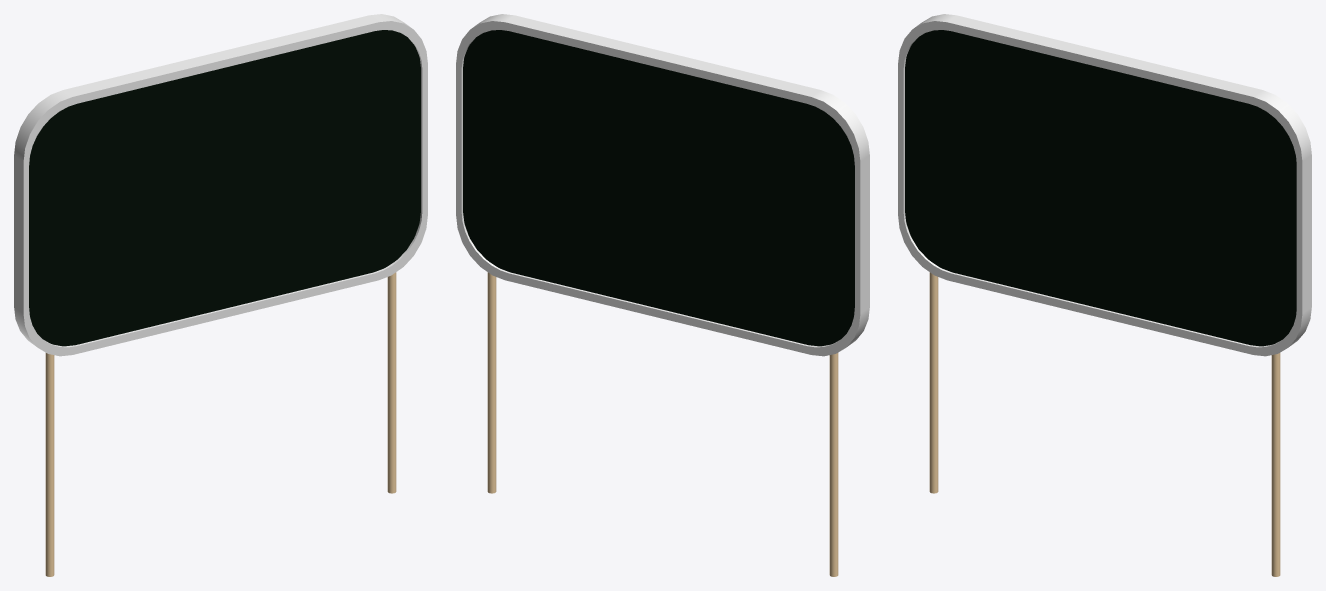
The model's file is chalkboard.fbx.
3 views of the same model, side by side, from view 1: azimuth 30°, elevation 25°; view 2: azimuth 150°, elevation 25°; view 3: azimuth 330°, elevation 25° (orthographic).
Parts seen in each view (by area): view 1: Billboard; view 2: Billboard; view 3: Billboard.
Boxes of the visible parts, bbox=[...] form: Billboard: bbox=[14, 14, 427, 576]; Billboard: bbox=[456, 14, 869, 576]; Billboard: bbox=[898, 14, 1311, 576].
Bounding box in the file's own units: 210 × 8.54 × 236.
